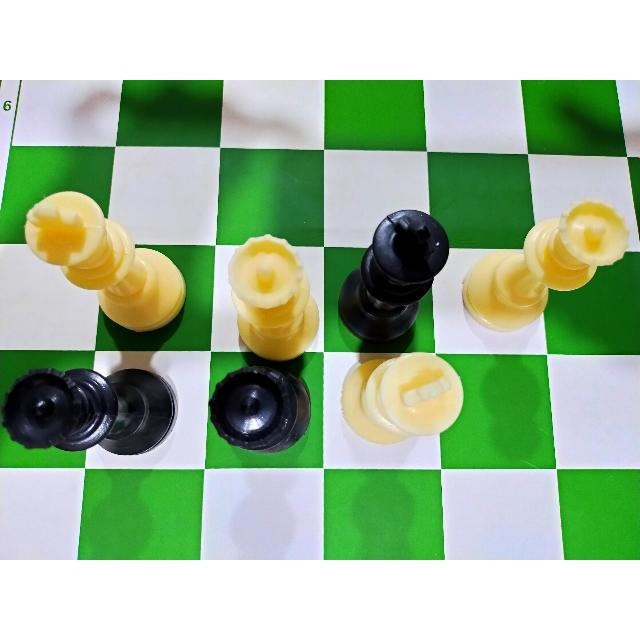black-king: (335, 205, 451, 347)
black-queen: (3, 359, 181, 467), (206, 369, 317, 457)
white-king: (21, 185, 190, 336), (339, 350, 466, 449)
white-queen: (460, 190, 630, 350), (219, 231, 323, 362)
